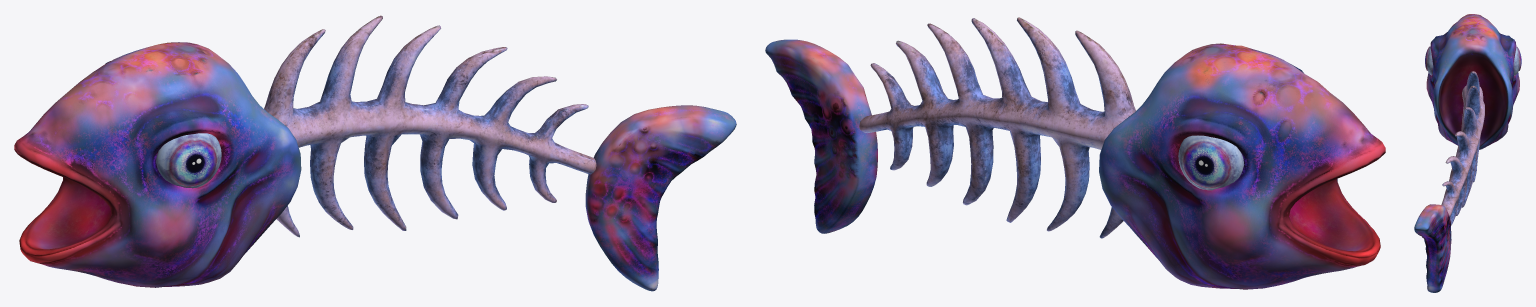
File: fish_skeleton.glb
3 renders of one model, left to right at view 1: azimuth 30°, elevation 25°; view 2: azimuth 150°, elevation 25°; view 3: azimuth 270°, elevation 25°, orthographic. The views are drawn at different scales.
Parts seen in each view (by area): view 1: tail_low_0; view 2: tail_low_0; view 3: tail_low_0.
Part boxes in pixels (x1=…): tail_low_0: x1=14, y1=15, x2=736, y2=291; tail_low_0: x1=765, y1=17, x2=1385, y2=289; tail_low_0: x1=1414, y1=14, x2=1521, y2=292.
Size of the model in its own units: 3.31 by 1.52 by 0.9286.
Materials: 4 (4 with a texture image).
